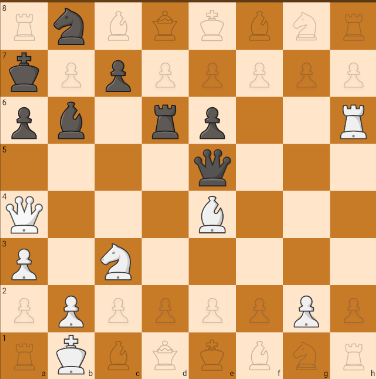bb: (53, 99, 88, 141)
bk: (2, 53, 48, 95)
bn: (49, 5, 91, 46)
bp: (2, 100, 43, 142), (99, 53, 138, 95), (197, 100, 230, 141)
bq: (191, 146, 235, 189)
br: (144, 98, 187, 142)
wb: (189, 194, 232, 237)
wk: (49, 333, 93, 379)
wn: (97, 239, 136, 282)
wp: (288, 290, 330, 332), (2, 239, 43, 282), (53, 290, 89, 330)
wq: (3, 194, 46, 236)
wr: (334, 98, 375, 142)
